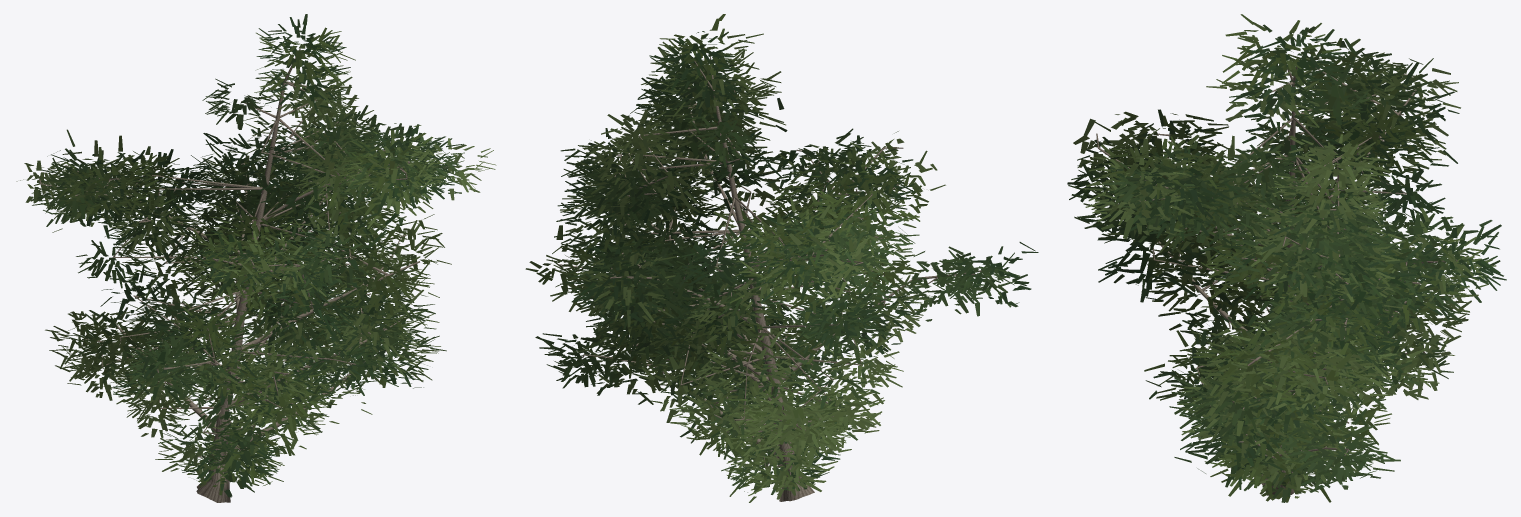
Rendered from cyp2.glb.
3 renders of one model, left to right at view 1: azimuth 30°, elevation 25°; view 2: azimuth 150°, elevation 25°; view 3: azimuth 270°, elevation 25°, orthographic. The views are drawn at different scales.
Visible parts, largest first — view 1: cyp2_lod0_1, cyp2_lod0_0; view 2: cyp2_lod0_1, cyp2_lod0_0; view 3: cyp2_lod0_1, cyp2_lod0_0.
Boxes of the visible parts, x1,y1,x2,y2 form: cyp2_lod0_1: (16,14,496,497); cyp2_lod0_0: (39,48,448,502); cyp2_lod0_1: (525,14,1038,502); cyp2_lod0_0: (558,56,981,501); cyp2_lod0_1: (1067,14,1506,502); cyp2_lod0_0: (1096,64,1457,495).
Size of what is drawn, in the model's own units: 17.51 by 18 by 14.12.
Materials: 2 (1 with a texture image).
